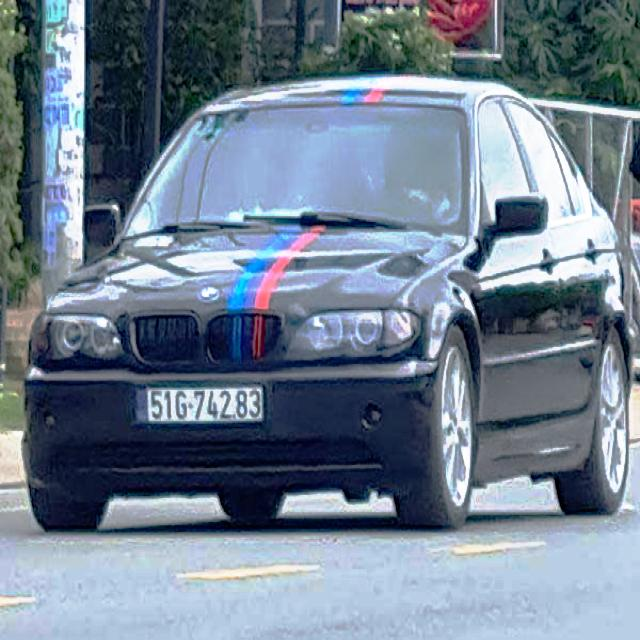license_plate: (136, 385, 264, 425)
